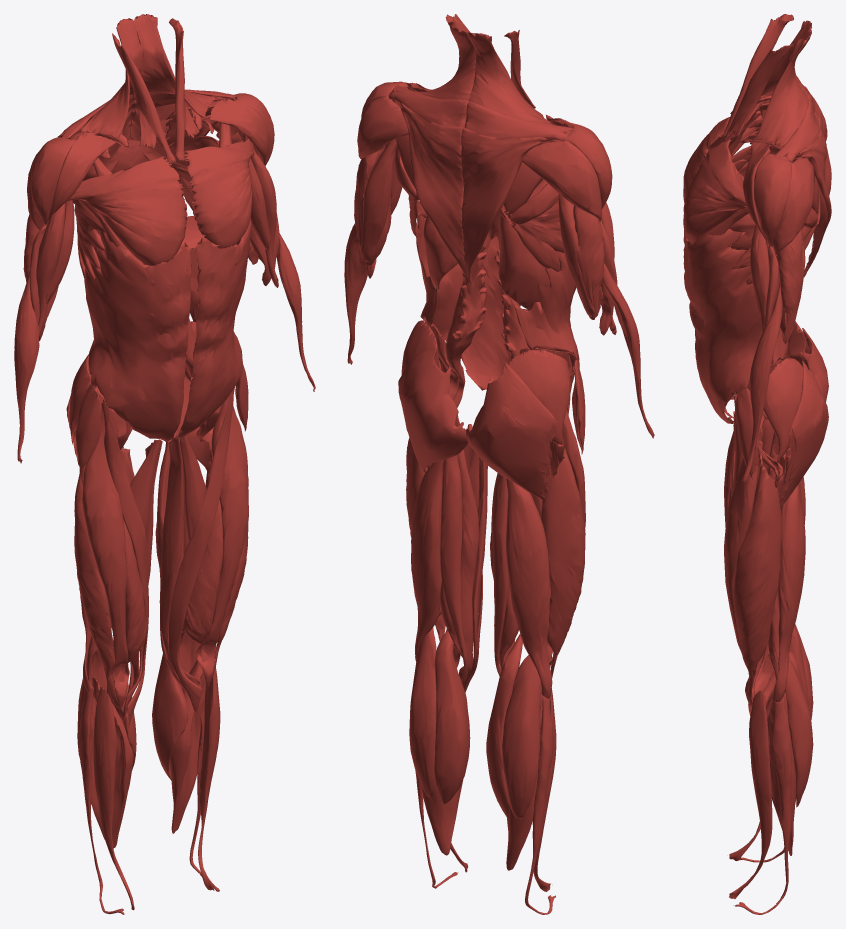
File: muscles.glb
3 views of the same model, side by side, from view 1: azimuth 30°, elevation 25°; view 2: azimuth 150°, elevation 25°; view 3: azimuth 270°, elevation 25° (orthographic). The views are drawn at different scales.
Visible parts, largest first — view 1: external-oblique-r, external-oblique-l, pectoralis-major-r, rectus-femoris-r, pectoralis-major-l, rectus-femoris-l, sartorius-l, deltoid-r, trapezius-l, vastus-lateralis-r, gracilis-l, trapezius-r (+32 smaller); view 2: trapezius-r, trapezius-l, gastrocnemius-l, gluteus-maximus-r, gastrocnemius-r, biceps-femoris-r, vastus-lateralis-r, external-oblique-l, gluteus-maximus-l, deltoid-r, biceps-femoris-l, diaphragm (+28 smaller); view 3: external-oblique-l, vastus-lateralis-l, deltoid-l, trapezius-l, biceps-femoris-l, pectoralis-major-l, gluteus-maximus-l, tibialis-anterior-l, rectus-femoris-l, gastrocnemius-l, gluteus-medius-l, fibularis-longus-l (+19 smaller).
Boxes of the visible parts, bbox=[...] form: external-oblique-r: bbox=[84, 231, 191, 441]; external-oblique-l: bbox=[174, 218, 251, 438]; pectoralis-major-r: bbox=[67, 156, 187, 285]; rectus-femoris-r: bbox=[82, 409, 129, 709]; pectoralis-major-l: bbox=[184, 138, 254, 265]; rectus-femoris-l: bbox=[196, 395, 248, 688]; sartorius-l: bbox=[168, 387, 234, 712]; deltoid-r: bbox=[27, 132, 115, 229]; trapezius-l: bbox=[129, 14, 236, 166]; vastus-lateralis-r: bbox=[74, 464, 118, 707]; gracilis-l: bbox=[160, 435, 199, 685]; trapezius-r: bbox=[58, 18, 143, 173]; trapezius-r: bbox=[461, 32, 572, 284]; trapezius-l: bbox=[389, 26, 476, 284]; gastrocnemius-l: bbox=[409, 627, 470, 804]; gluteus-maximus-r: bbox=[466, 363, 557, 500]; gastrocnemius-r: bbox=[486, 634, 541, 819]; biceps-femoris-r: bbox=[506, 478, 552, 698]; vastus-lateralis-r: bbox=[541, 441, 585, 678]; external-oblique-l: bbox=[416, 212, 520, 390]; gluteus-maximus-l: bbox=[398, 345, 467, 472]; deltoid-r: bbox=[522, 115, 612, 221]; biceps-femoris-l: bbox=[411, 459, 444, 661]; diaphragm: bbox=[423, 213, 560, 309]; external-oblique-l: bbox=[683, 229, 787, 423]; vastus-lateralis-l: bbox=[733, 452, 781, 705]; deltoid-l: bbox=[743, 142, 814, 255]; trapezius-l: bbox=[755, 30, 831, 271]; biceps-femoris-l: bbox=[768, 484, 805, 701]; pectoralis-major-l: bbox=[683, 139, 748, 262]; gluteus-maximus-l: bbox=[776, 361, 828, 507]; tibialis-anterior-l: bbox=[729, 690, 772, 898]; rectus-femoris-l: bbox=[724, 415, 765, 706]; gastrocnemius-l: bbox=[766, 650, 813, 807]; gluteus-medius-l: bbox=[763, 358, 802, 460]; fibularis-longus-l: bbox=[733, 696, 791, 914].
Size of the model in its own units: 0.5612 by 1.56 by 0.2439.
